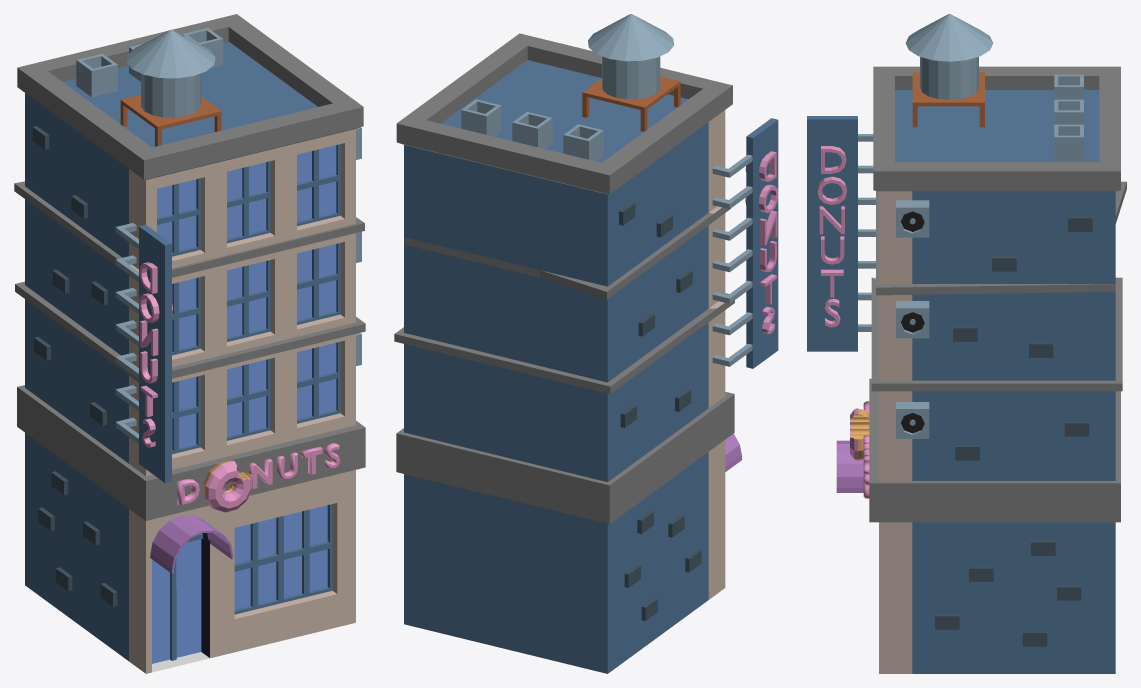
The model's file is Donut_Building_02.fbx.
3 views of the same model, side by side, from view 1: azimuth 30°, elevation 25°; view 2: azimuth 150°, elevation 25°; view 3: azimuth 270°, elevation 25° (orthographic). The views are drawn at different scales.
Parts seen in each view (by area): view 1: Building, WaterTank, SignBoard, SignBars, topVents, Text.002, Awning, Text.003, SideVent; view 2: Building, WaterTank, SignBoard, topVents, SignBars, Text.002; view 3: Building, SignBoard, WaterTank, SideVent, topVents, Text.001, Awning, SignBars, Text.003.
Part boxes in pixels (<box>): Building: <box>14,14,365,673</box>; WaterTank: <box>120,29,221,146</box>; SignBoard: <box>139,224,171,482</box>; SignBars: <box>115,223,138,443</box>; topVents: <box>76,28,223,96</box>; Text.002: <box>139,262,159,447</box>; Awning: <box>150,515,233,573</box>; Text.003: <box>177,443,340,505</box>; SideVent: <box>356,127,361,365</box>; Building: <box>394,33,734,673</box>; WaterTank: <box>582,14,680,131</box>; SignBoard: <box>746,118,778,368</box>; topVents: <box>461,99,603,161</box>; SignBars: <box>712,154,752,366</box>; Text.002: <box>758,151,778,334</box>; Building: <box>850,66,1126,673</box>; SignBoard: <box>807,116,857,351</box>; WaterTank: <box>905,14,993,127</box>; SideVent: <box>896,200,929,438</box>; topVents: <box>1054,74,1083,161</box>; Text.001: <box>817,146,846,327</box>; Awning: <box>836,440,863,492</box>; SignBars: <box>858,134,875,331</box>; Text.003: <box>863,401,869,498</box>.
Bounding box in the file's own units: 946 × 1081 × 2194.
